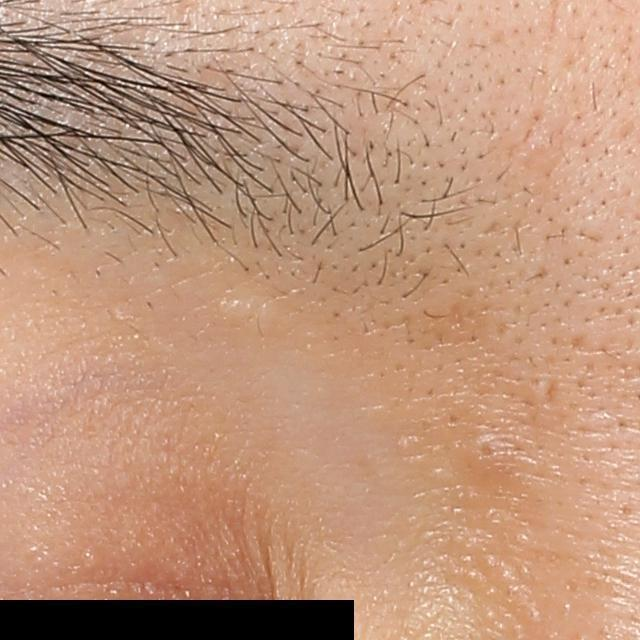atrophic_scar: (543, 380, 558, 408)
comedo: (466, 434, 506, 473)
